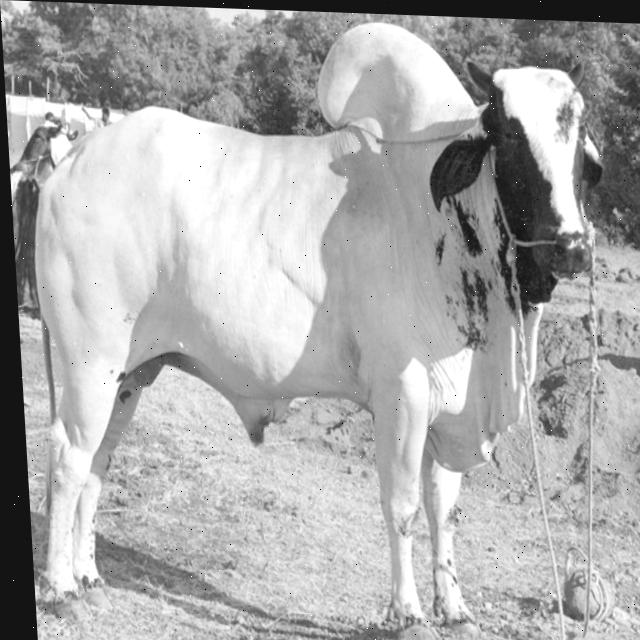Cow: (6, 8, 632, 640)
